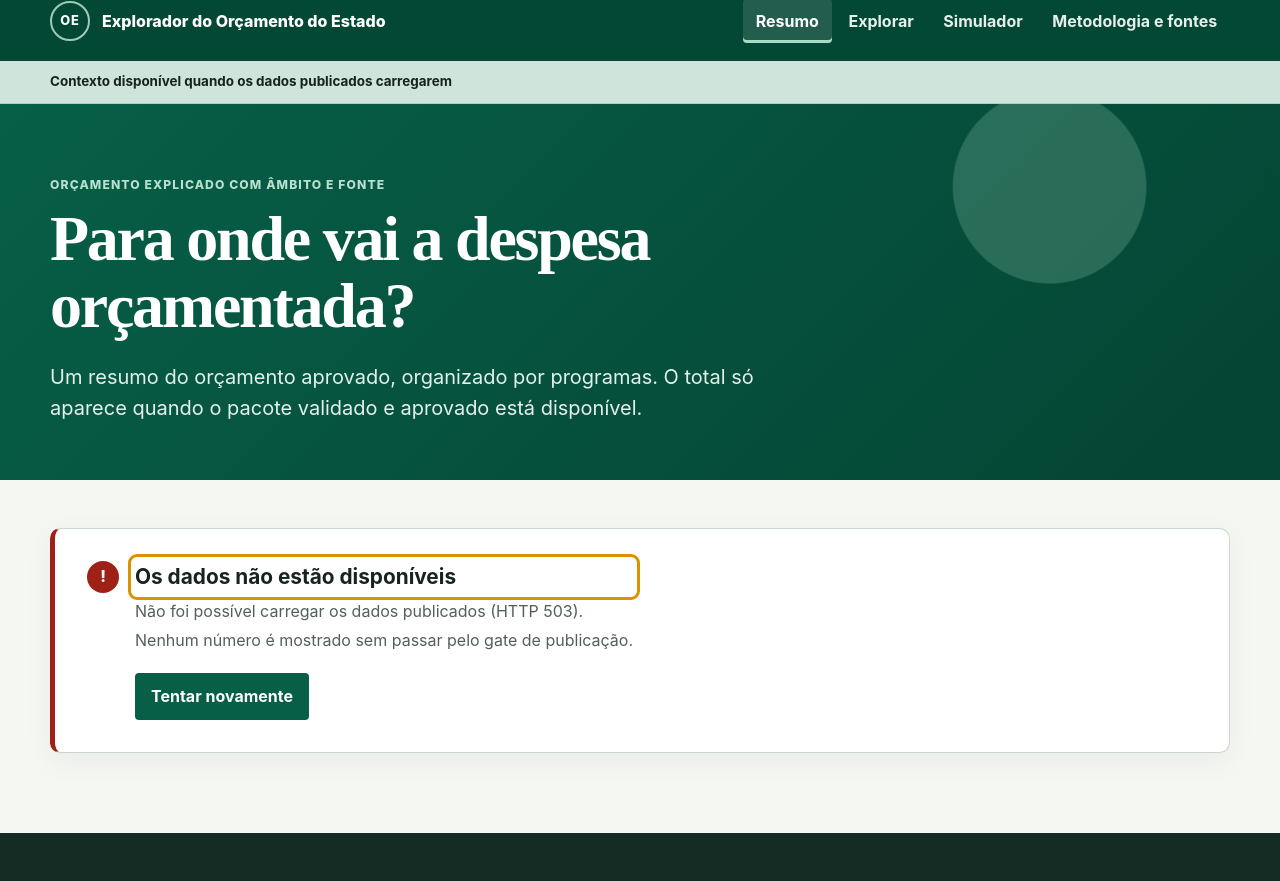
Test case: SummaryPage › explica a falha, move o foco e permite tentar novamente
This screenshot has width=1280, height=881.
Click the button "Tentar novamente".
click(222, 696)  # box [135,673,309,720]
(page scrolled)
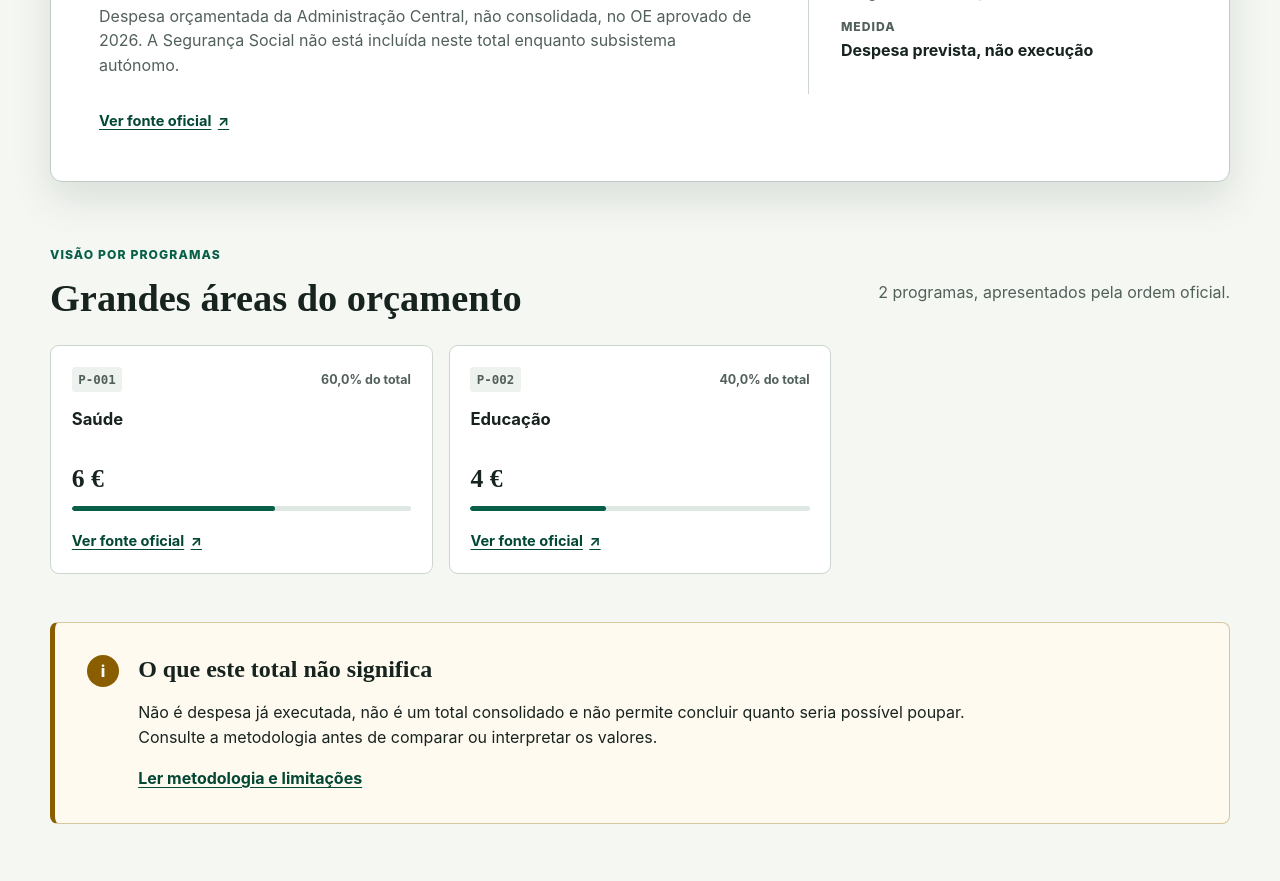
Check: the heading "Saúde" is shown, box [72,409,123,429]
